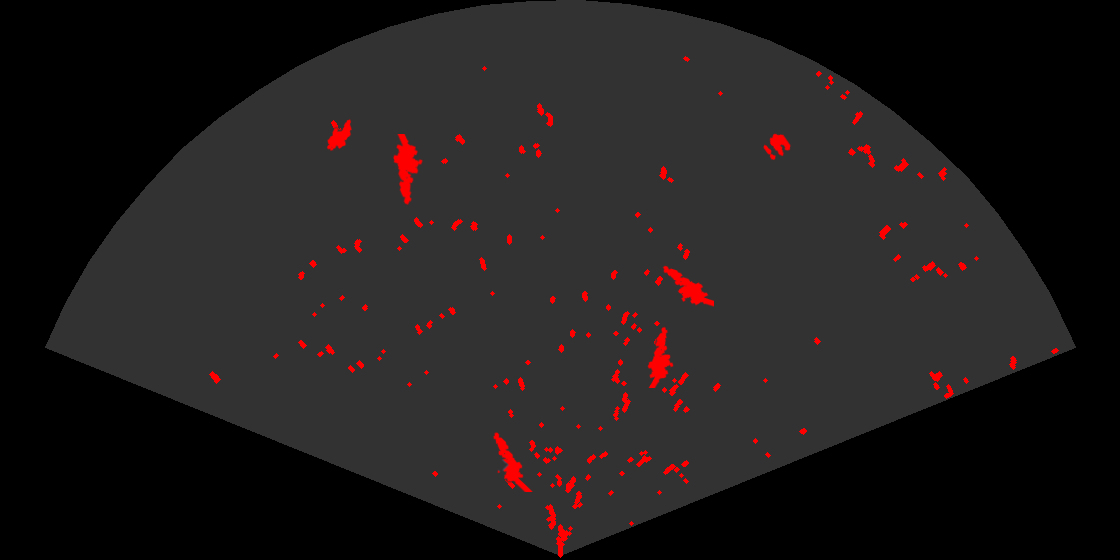AUV: (325, 117, 353, 153)
ball: (762, 132, 792, 162)
frogman: (492, 431, 534, 492), (391, 134, 425, 207), (661, 264, 714, 308), (646, 325, 675, 388)
